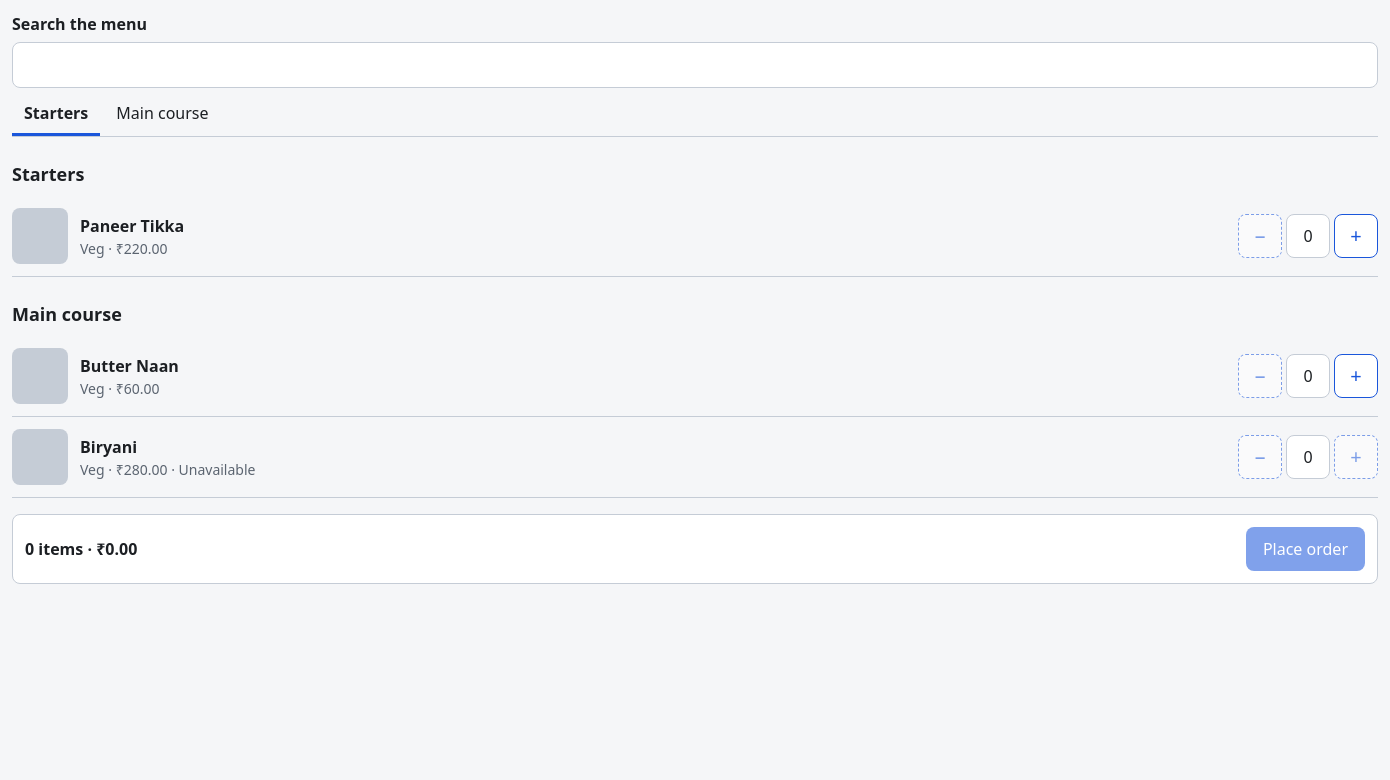
it: RestaurantPage: placing the order › keeps the cart and shows an error when the request fails
Click the button named "Add Paneer Tikka". click: {"x": 1356, "y": 236}
box: x1=1334 y1=214 x2=1378 y2=258
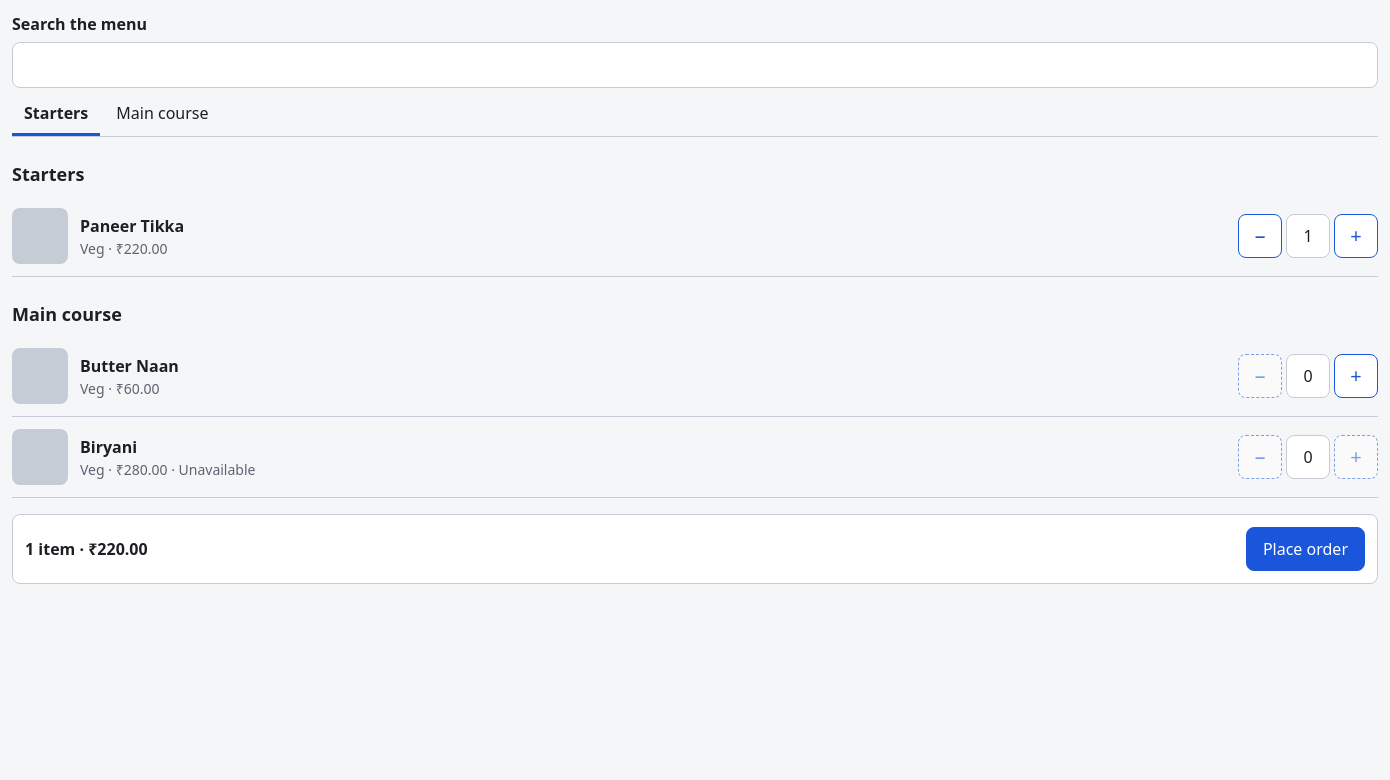
Click the button "Place order". click: {"x": 1305, "y": 549}
box: x1=1246 y1=527 x2=1365 y2=571
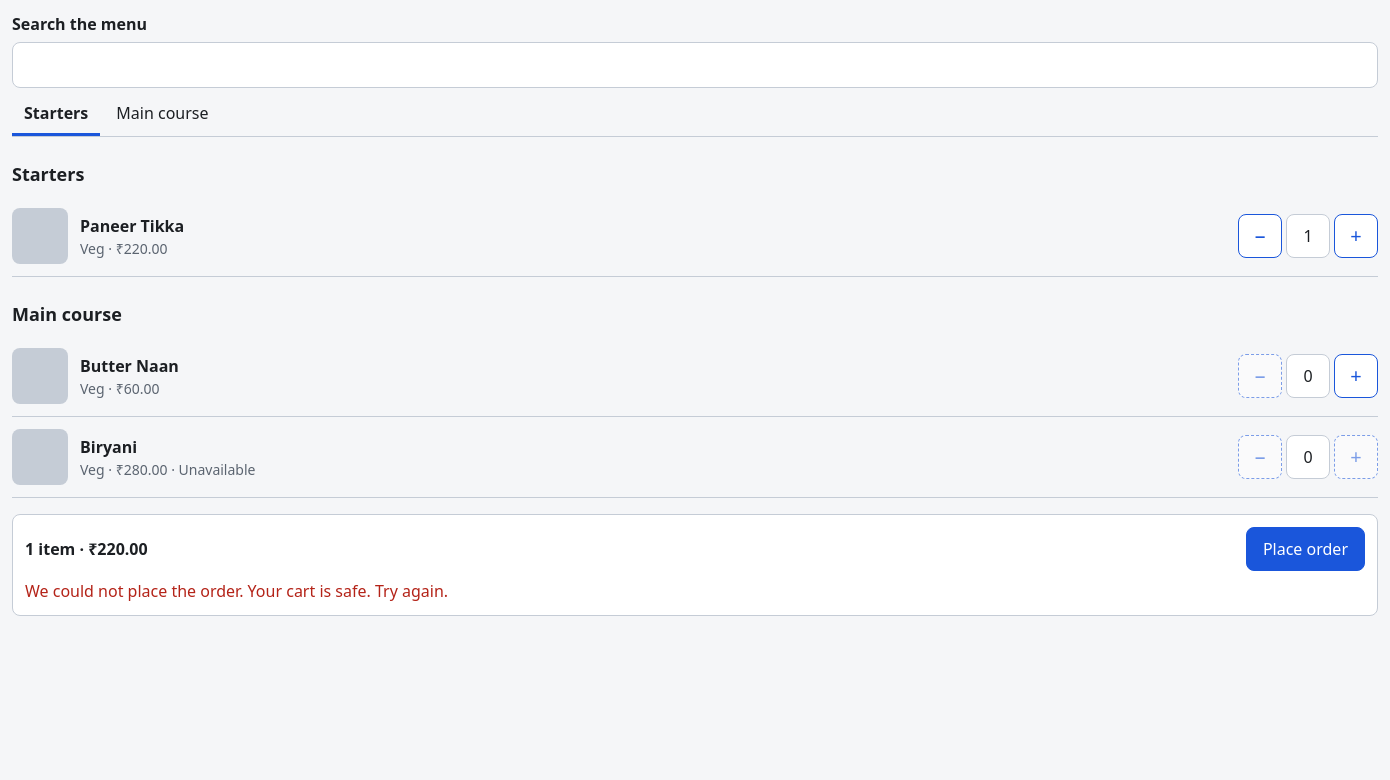
Result: the text "1 item · ₹220.00" is shown at x1=25 y1=537 x2=148 y2=561
Result: the message shows "We could not place the order." at x1=25 y1=580 x2=448 y2=602
